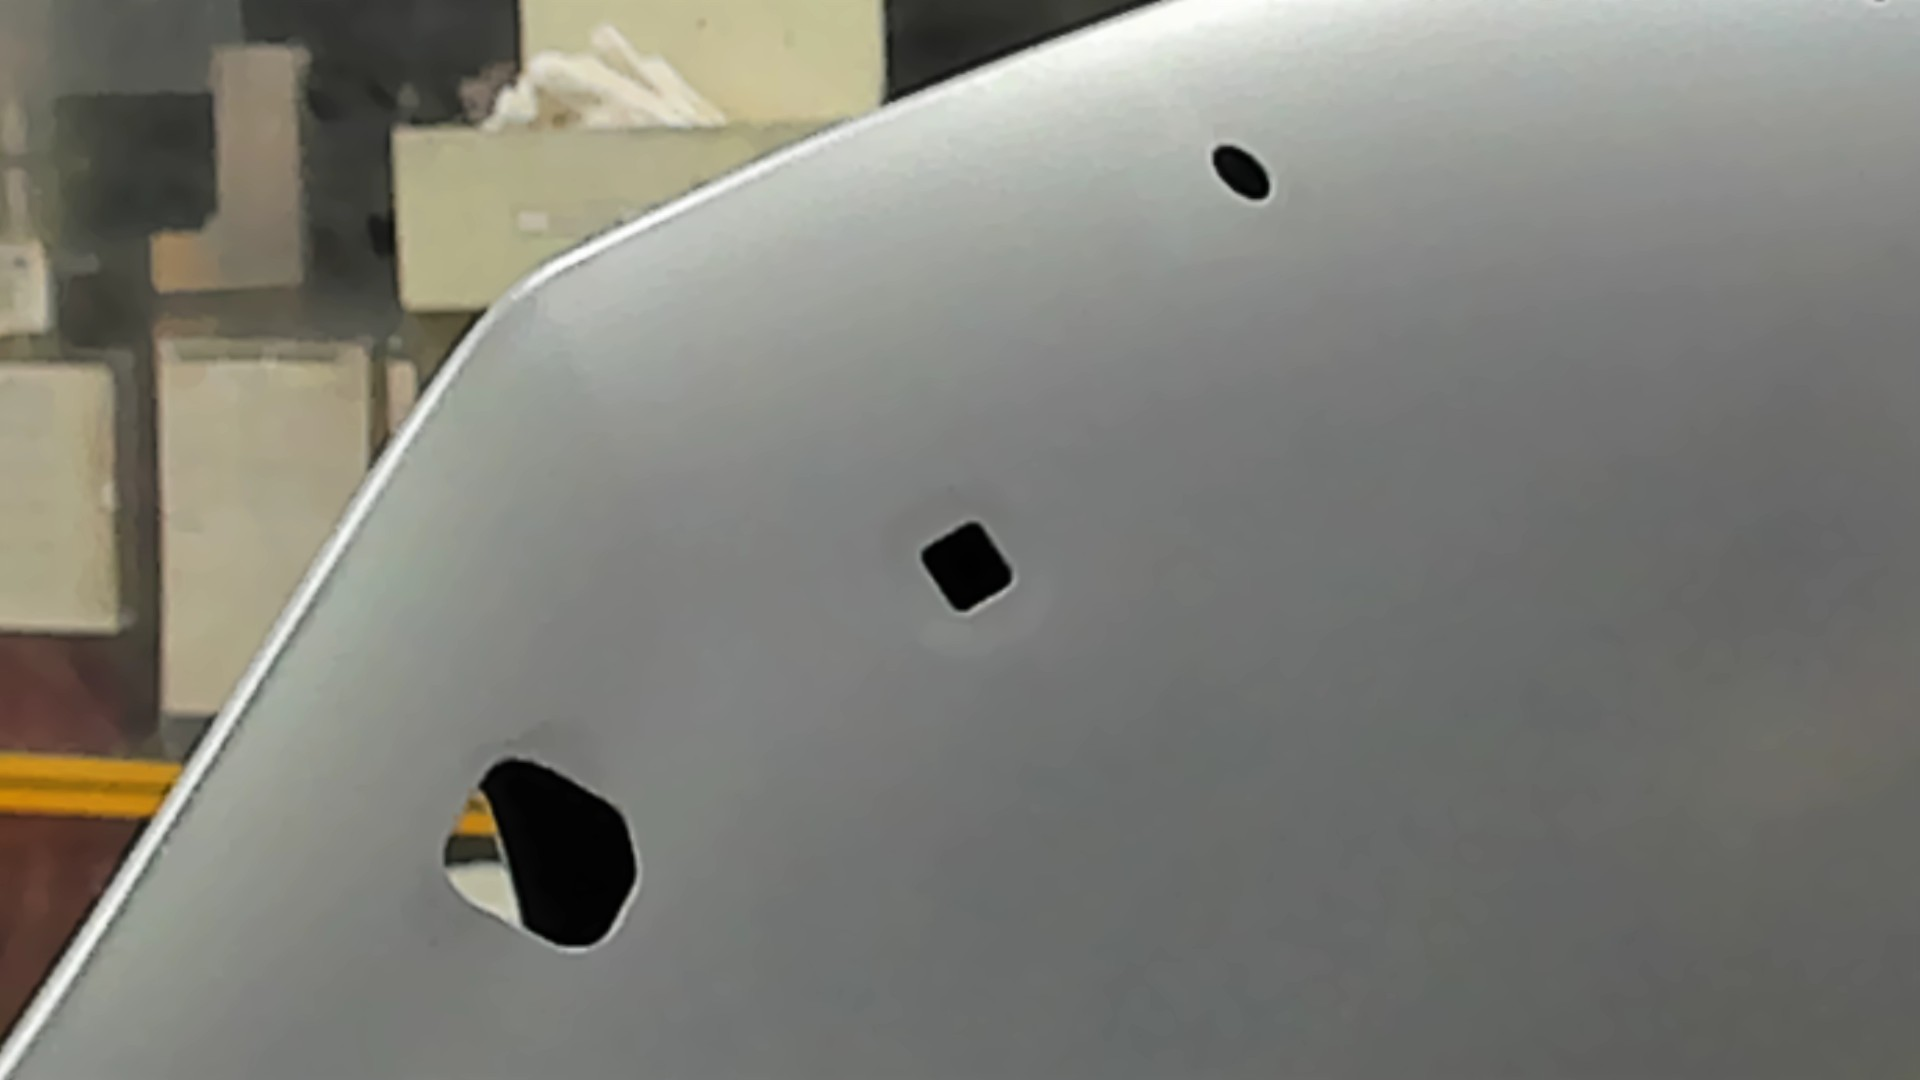capo: (1029, 208, 1920, 1080)
chico: (1207, 138, 1276, 208)
grande: (439, 750, 644, 960)
mediano: (910, 514, 1021, 624)
